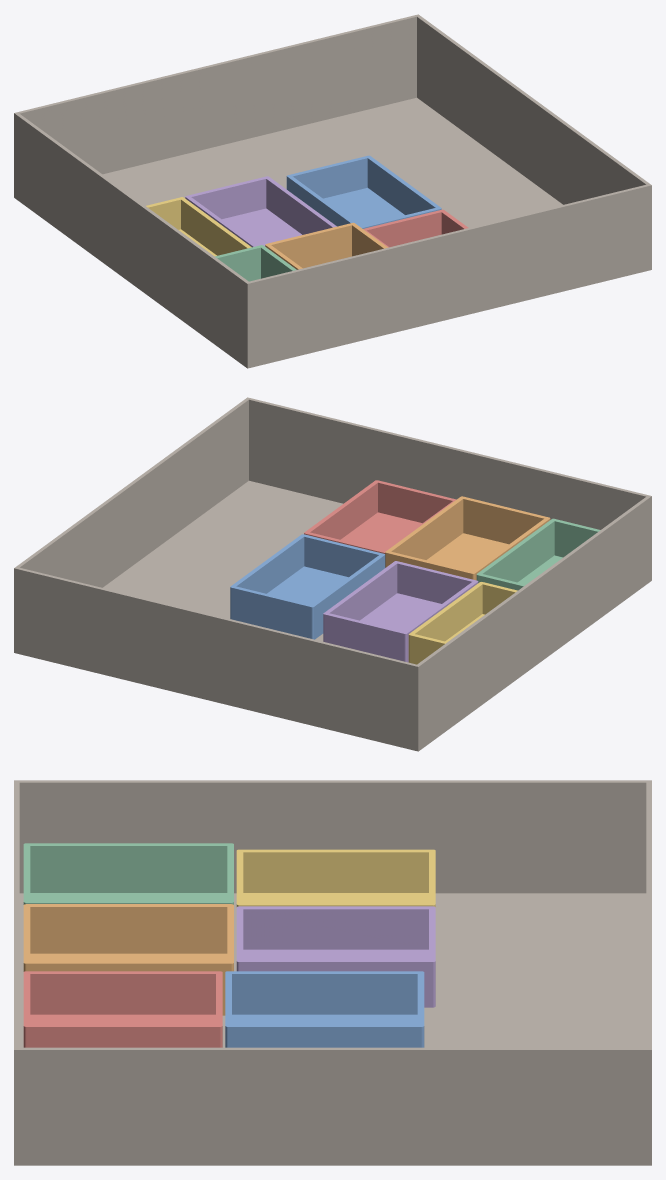
The model's file is organizer.glb.
3 renders of one model, top to bottom at view 1: azimuth 30°, elevation 25°; view 2: azimuth 150°, elevation 25°; view 3: azimuth 270°, elevation 25°, orthographic. The views are drawn at different scales.
Visible parts, largest first — view 1: Game box (preview only), Player 2 Bus Set (17 buses + 1 Scoring Marker), Player 4 Bus Set (17 buses + 1 Scoring Marker), Destination Ticket Card Deck, Player 3 Bus Set (17 buses + 1 Scoring Marker), Player 1 Bus Set (17 buses + 1 Scoring Marker), Transportation Card Deck; view 2: Game box (preview only), Player 2 Bus Set (17 buses + 1 Scoring Marker), Player 4 Bus Set (17 buses + 1 Scoring Marker), Destination Ticket Card Deck, Player 1 Bus Set (17 buses + 1 Scoring Marker), Transportation Card Deck, Player 3 Bus Set (17 buses + 1 Scoring Marker); view 3: Game box (preview only), Player 1 Bus Set (17 buses + 1 Scoring Marker), Player 2 Bus Set (17 buses + 1 Scoring Marker), Destination Ticket Card Deck, Player 4 Bus Set (17 buses + 1 Scoring Marker), Transportation Card Deck, Player 3 Bus Set (17 buses + 1 Scoring Marker).
Part boxes in pixels (left/top/right/bottom): Game box (preview only): left=14, top=14, right=651, bottom=368; Player 2 Bus Set (17 buses + 1 Scoring Marker): left=286, top=155, right=441, bottom=228; Player 4 Bus Set (17 buses + 1 Scoring Marker): left=185, top=176, right=336, bottom=247; Destination Ticket Card Deck: left=265, top=222, right=387, bottom=269; Player 3 Bus Set (17 buses + 1 Scoring Marker): left=146, top=197, right=251, bottom=256; Player 1 Bus Set (17 buses + 1 Scoring Marker): left=363, top=209, right=468, bottom=247; Transportation Card Deck: left=215, top=245, right=296, bottom=281; Game box (preview only): left=14, top=397, right=651, bottom=751; Player 2 Bus Set (17 buses + 1 Scoring Marker): left=230, top=534, right=385, bottom=639; Player 4 Bus Set (17 buses + 1 Scoring Marker): left=323, top=561, right=478, bottom=662; Destination Ticket Card Deck: left=385, top=496, right=550, bottom=580; Player 1 Bus Set (17 buses + 1 Scoring Marker): left=304, top=480, right=456, bottom=553; Transportation Card Deck: left=476, top=518, right=600, bottom=590; Player 3 Bus Set (17 buses + 1 Scoring Marker): left=408, top=582, right=517, bottom=664; Game box (preview only): left=14, top=780, right=651, bottom=1165; Player 1 Bus Set (17 buses + 1 Scoring Marker): left=23, top=971, right=222, bottom=1047; Player 2 Bus Set (17 buses + 1 Scoring Marker): left=225, top=971, right=424, bottom=1047; Destination Ticket Card Deck: left=23, top=904, right=233, bottom=1015; Player 4 Bus Set (17 buses + 1 Scoring Marker): left=236, top=906, right=435, bottom=1007; Transportation Card Deck: left=23, top=843, right=233, bottom=904; Player 3 Bus Set (17 buses + 1 Scoring Marker): left=236, top=849, right=435, bottom=906.
Bounding box in the file's own units: 0.23 × 0.046 × 0.23.
